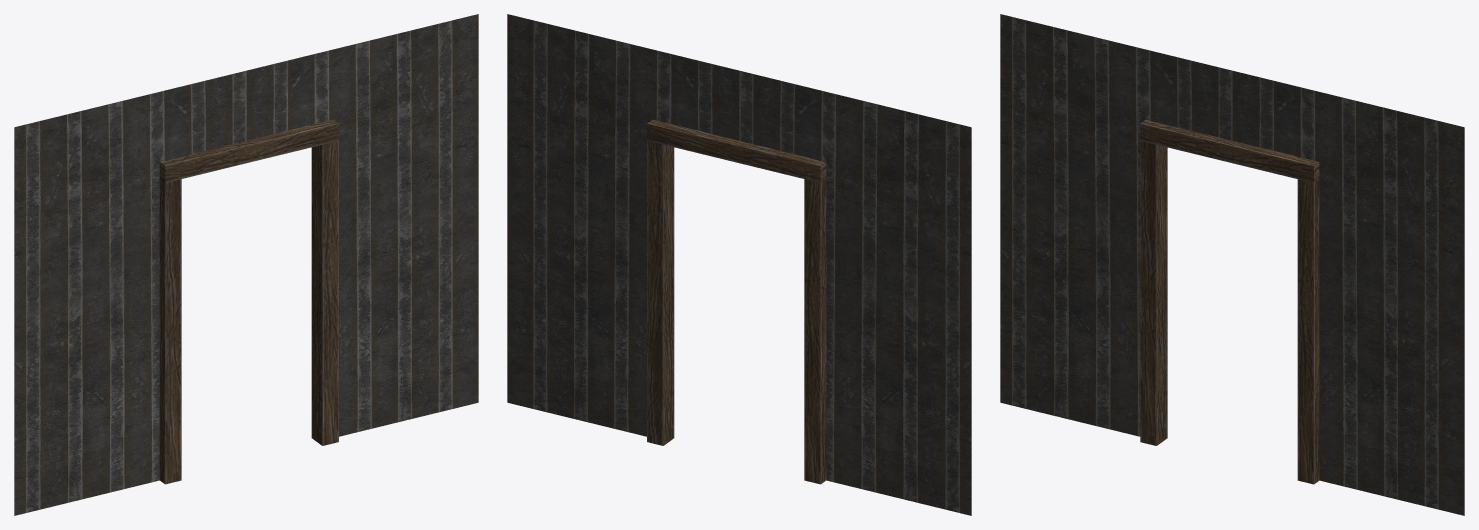
Rendered from open_door.fbx.
3 views of the same model, side by side, from view 1: azimuth 30°, elevation 25°; view 2: azimuth 150°, elevation 25°; view 3: azimuth 330°, elevation 25° (orthographic).
Visible parts, largest first — view 1: open_door; view 2: open_door; view 3: open_door.
Boxes of the visible parts, box(x1,y1,x2,y2) form: open_door: box(14, 14, 478, 515); open_door: box(507, 14, 971, 515); open_door: box(1000, 14, 1464, 515).
Bounding box in the file's own units: 500 × 400 × 20.34.
